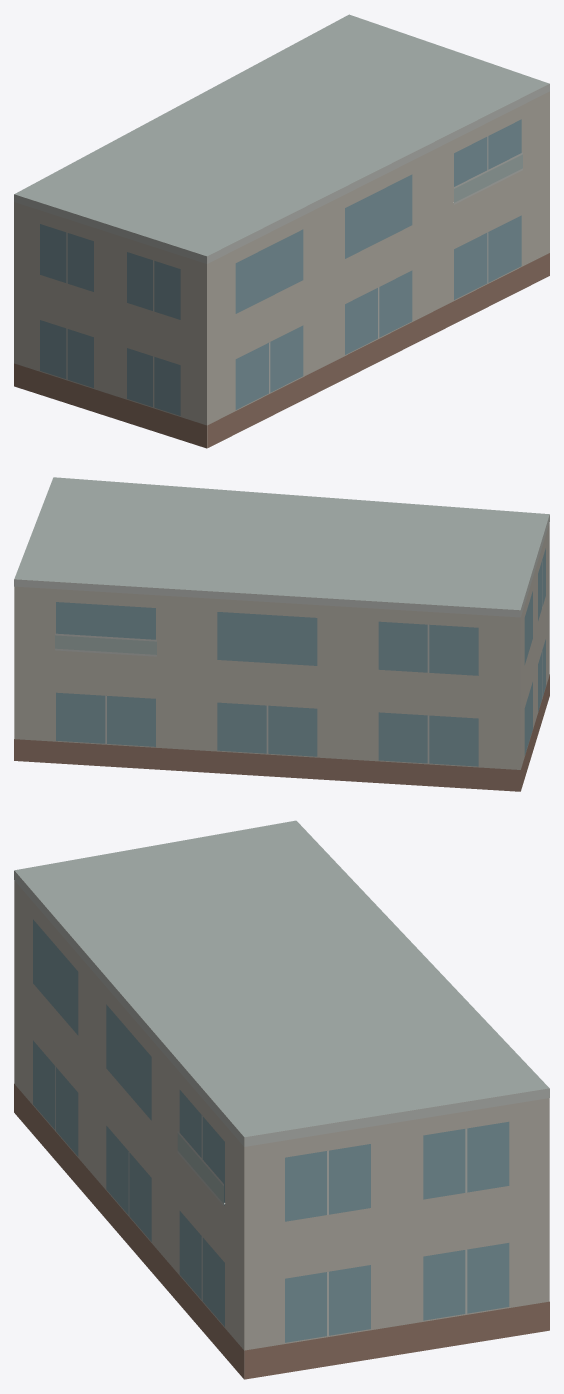
The model's file is survey-upis-32935670.glb.
3 renders of one model, top to bottom at view 1: azimuth 30°, elevation 25°; view 2: azimuth 150°, elevation 25°; view 3: azimuth 270°, elevation 25°, orthographic. The views are drawn at different scales.
Visible parts, largest first — view 1: survey-upis-32935670.tmp; view 2: survey-upis-32935670.tmp; view 3: survey-upis-32935670.tmp.
Part boxes in pixels (x1,y1,x2,y2): survey-upis-32935670.tmp: (14, 14, 549, 448); survey-upis-32935670.tmp: (14, 477, 549, 791); survey-upis-32935670.tmp: (14, 820, 549, 1379).
Size of the model in its own units: 17.13 by 6.1 by 12.24.
